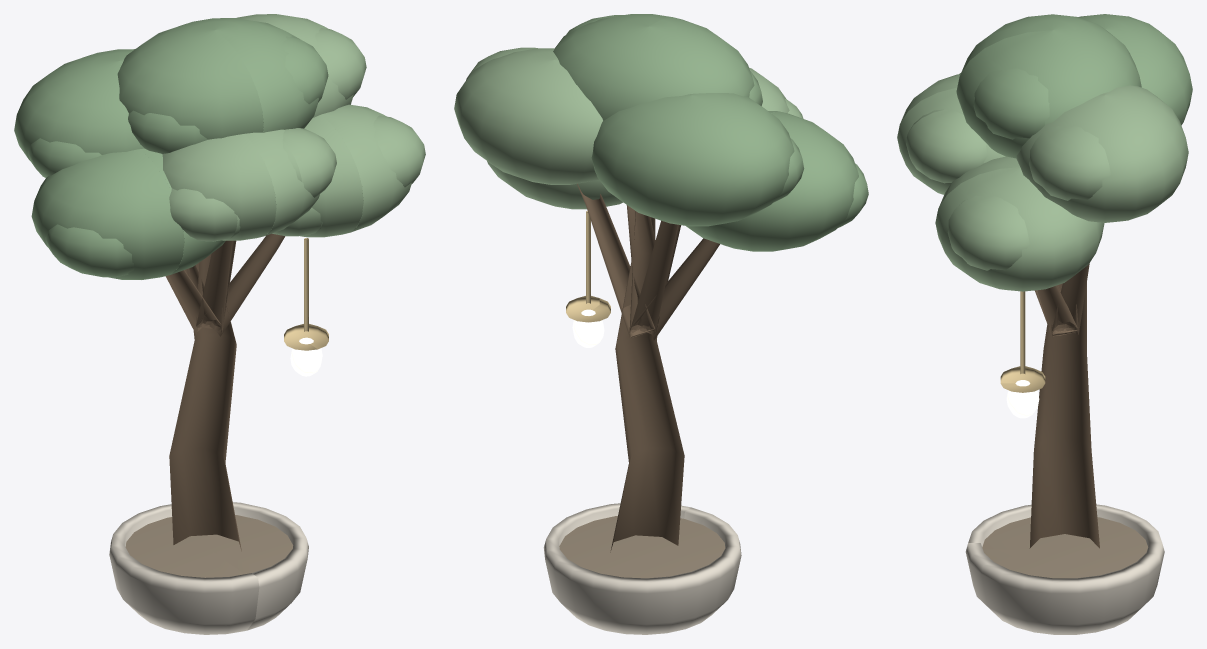
File: indoor_tree.glb
3 views of the same model, side by side, from view 1: azimuth 30°, elevation 25°; view 2: azimuth 150°, elevation 25°; view 3: azimuth 270°, elevation 25° (orthographic).
Visible parts, largest first — view 1: Tree_Rounded_Canopy, Indoor_Tree_Trunk, Tree_Lantern_Hardware, Tree_Lantern_Bulb; view 2: Tree_Rounded_Canopy, Indoor_Tree_Trunk, Tree_Lantern_Hardware, Tree_Lantern_Bulb; view 3: Tree_Rounded_Canopy, Indoor_Tree_Trunk, Tree_Lantern_Hardware, Tree_Lantern_Bulb.
Boxes of the visible parts, left/top/right/bottom form: Tree_Rounded_Canopy: left=14, top=14, right=425, bottom=279; Indoor_Tree_Trunk: left=109, top=233, right=308, bottom=634; Tree_Lantern_Hardware: left=284, top=238, right=328, bottom=350; Tree_Lantern_Bulb: left=290, top=337, right=322, bottom=376; Tree_Rounded_Canopy: left=454, top=14, right=868, bottom=251; Indoor_Tree_Trunk: left=543, top=183, right=741, bottom=634; Tree_Lantern_Hardware: left=566, top=211, right=610, bottom=322; Tree_Lantern_Bulb: left=572, top=309, right=604, bottom=347; Tree_Rounded_Canopy: left=897, top=14, right=1192, bottom=291; Indoor_Tree_Trunk: left=965, top=263, right=1164, bottom=634; Tree_Lantern_Hardware: left=1000, top=291, right=1045, bottom=392; Tree_Lantern_Bulb: left=1006, top=380, right=1039, bottom=418.
Bounding box in the file's own units: 1.7 × 2.54 × 1.19.
